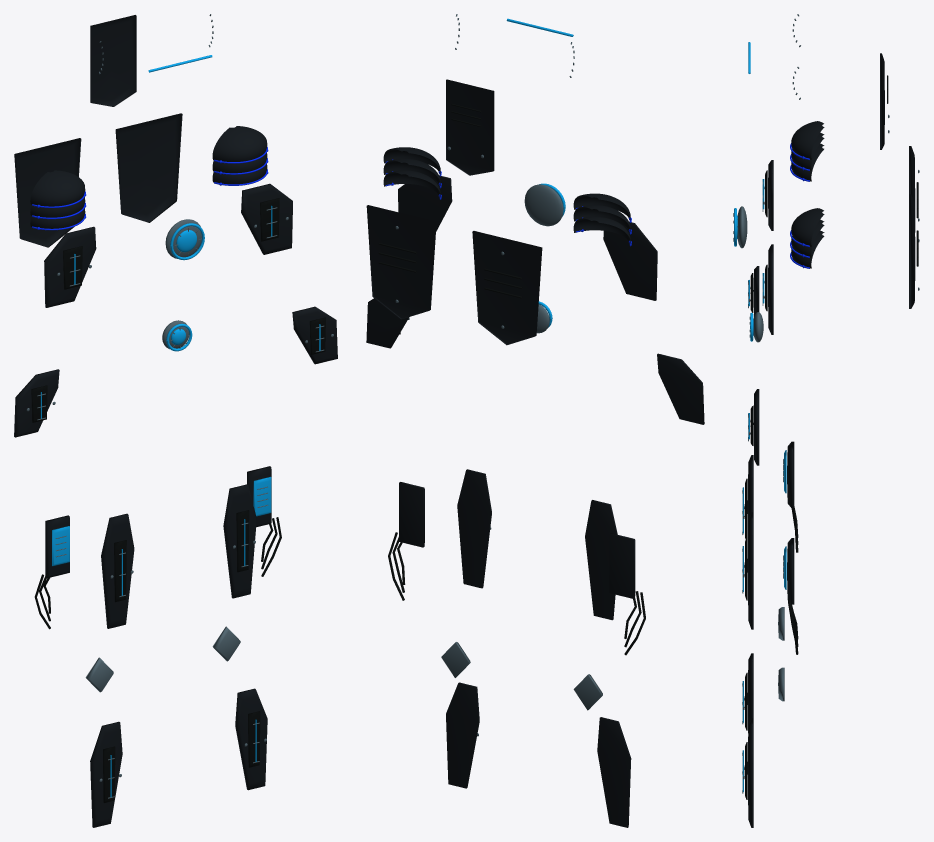
The model's file is Traveler-new-parts.obj.
The picture shows the model from 3 angles, left to right: view 1: azimuth 30°, elevation 25°; view 2: azimuth 150°, elevation 25°; view 3: azimuth 270°, elevation 25°; orthographic projection. The views are drawn at different scales.
Size of the model in its own units: 0.6696 by 1.51 by 0.3414.
